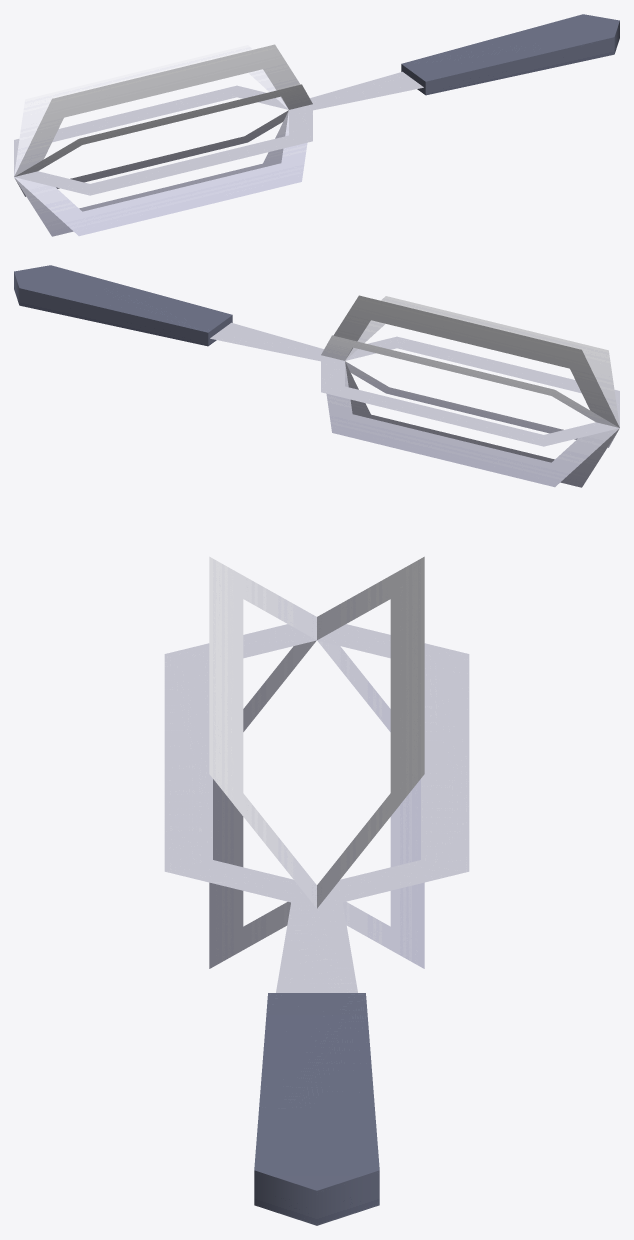
File: whisk.glb
The picture shows the model from 3 angles, top to bottom: view 1: azimuth 30°, elevation 25°; view 2: azimuth 150°, elevation 25°; view 3: azimuth 270°, elevation 25°; orthographic projection. The views are drawn at different scales.
Parts seen in each view (by area): view 1: whisk; view 2: whisk; view 3: whisk.
Part boxes in pixels (bbox=[...]): whisk: bbox=[14, 14, 619, 236]; whisk: bbox=[14, 265, 619, 487]; whisk: bbox=[164, 556, 469, 1225].
Size of the model in its own units: 0.7244 by 0.1576 by 0.1576.
1 material, 1 textured.
